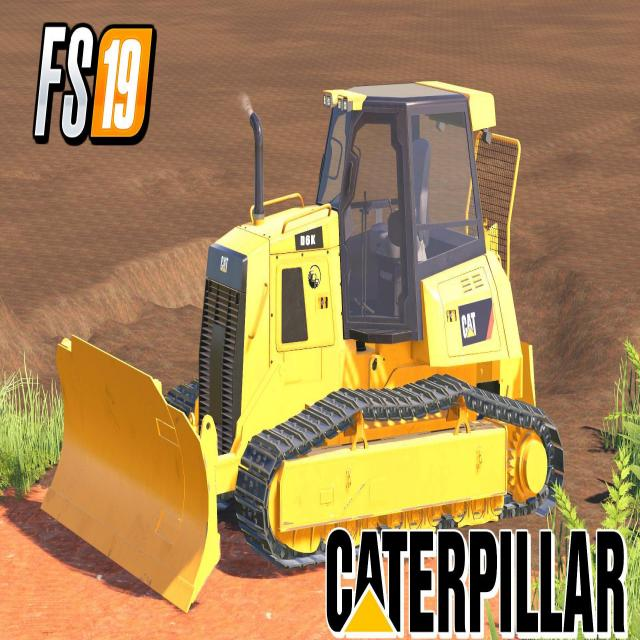Bulldozer: (26, 63, 614, 616)
